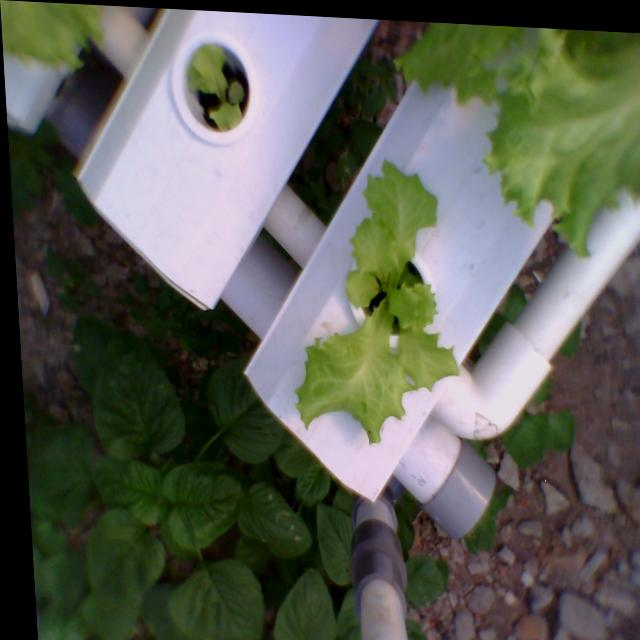FN: (277, 143, 475, 458), (180, 36, 250, 140)
